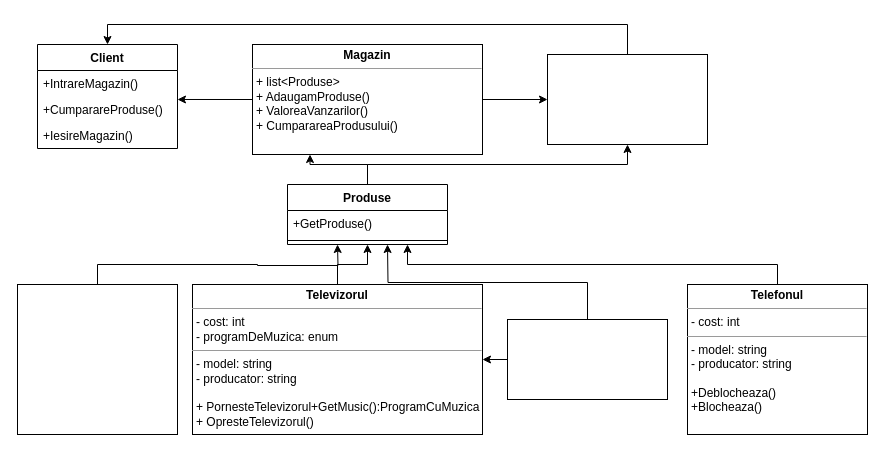
Some shapes in this 885 by 452 pixel diagram are drawn without their labels. Each missing label, with the centre of its shape:
Becul - cost: int + AprindeBecul() + StingeBecul(): point 97,359
CasaDeMarcat + Vanzari() + PretulProduselor(): point 627,99
SistemeAudio +PornesteMuzica() +OpreseteMuzica(): point 587,359
